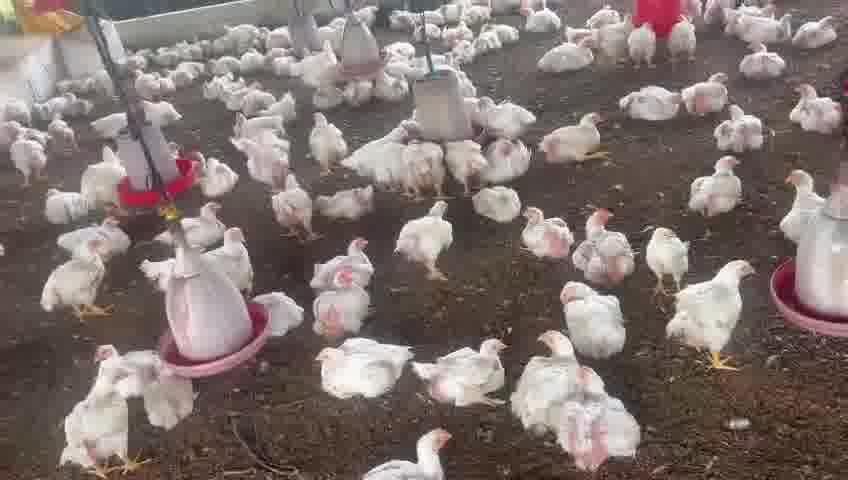Normal: (667, 258, 757, 372), (517, 331, 606, 435), (68, 366, 132, 479), (38, 240, 107, 320), (394, 199, 452, 286), (353, 429, 450, 480), (687, 155, 747, 217), (344, 124, 409, 178), (781, 167, 827, 236), (272, 171, 315, 242), (406, 139, 448, 201), (218, 228, 252, 300), (446, 140, 485, 197), (480, 139, 531, 181), (474, 98, 533, 134), (7, 138, 46, 186), (626, 22, 656, 70), (379, 141, 404, 192), (670, 19, 696, 64)
